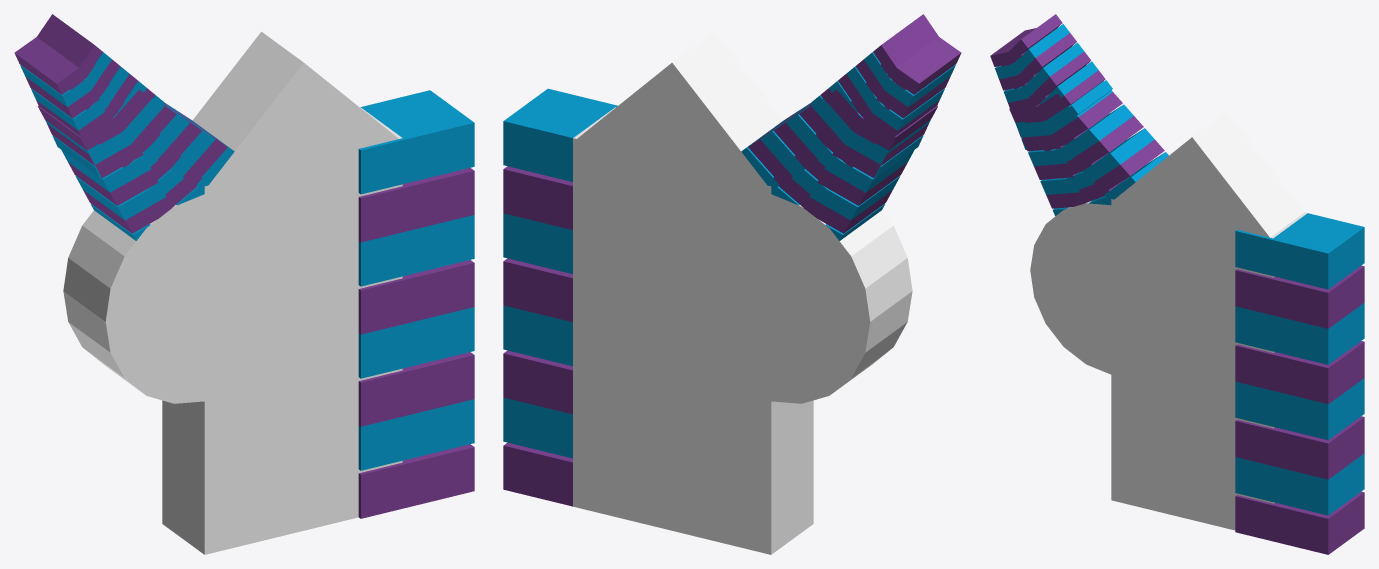
Rendered from tinker.obj.
3 renders of one model, left to right at view 1: azimuth 30°, elevation 25°; view 2: azimuth 150°, elevation 25°; view 3: azimuth 330°, elevation 25°, orthographic. The views are drawn at different scales.
Visible parts, largest first — view 1: group_0_16448250, group_0_8273816, group_0_40919; view 2: group_0_16448250, group_0_8273816, group_0_40919; view 3: group_0_16448250, group_0_8273816, group_0_40919.
Boxes of the visible parts, x1,y1,x2,y2 form: group_0_16448250: (63, 31, 402, 554); group_0_8273816: (14, 14, 474, 518); group_0_40919: (20, 52, 474, 470); group_0_16448250: (573, 31, 912, 554); group_0_8273816: (503, 14, 961, 506); group_0_40919: (503, 52, 955, 458); group_0_16448250: (1030, 112, 1307, 530); group_0_8273816: (990, 14, 1364, 554); group_0_40919: (995, 24, 1364, 515).
Bounding box in the file's own units: 113 × 140 × 21.
